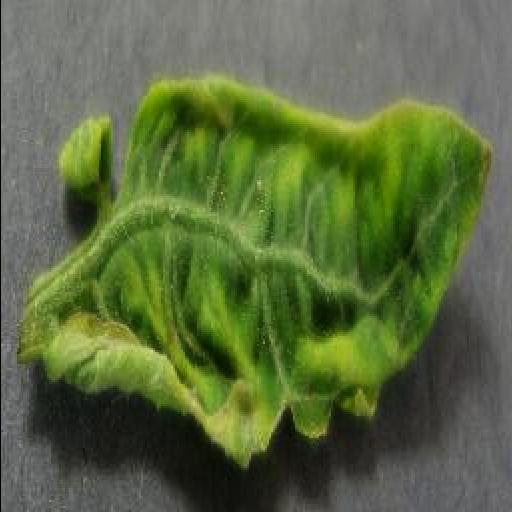disease_tomato: (16, 84, 498, 474)
